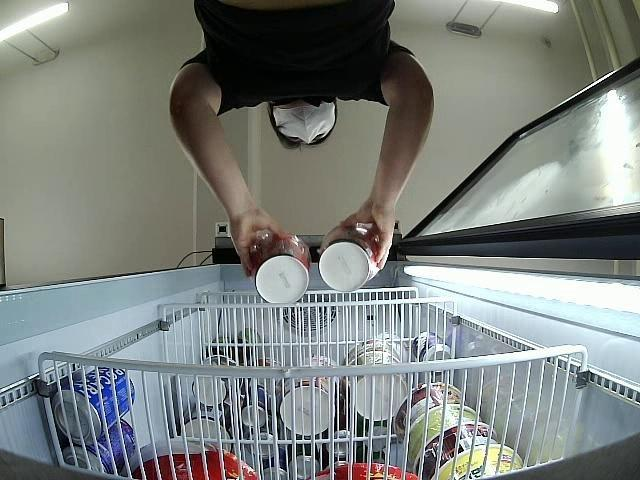01_ShinRamen_L: (319, 223, 382, 292), (250, 233, 311, 303)
